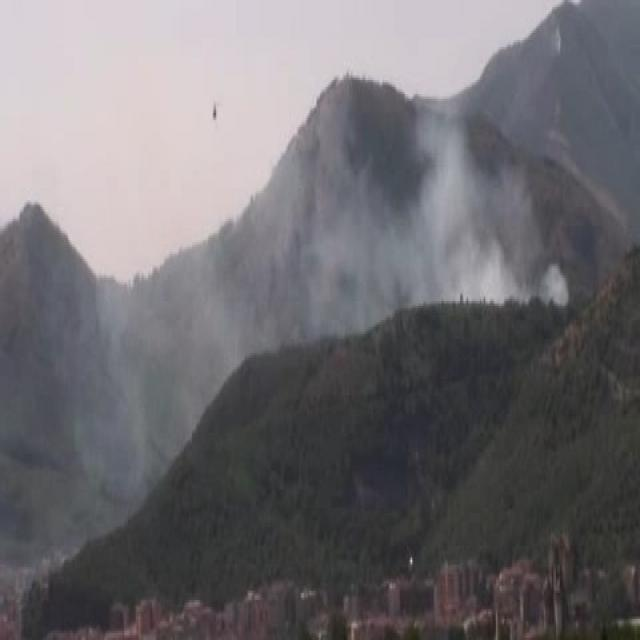smoke: (329, 100, 520, 308)
